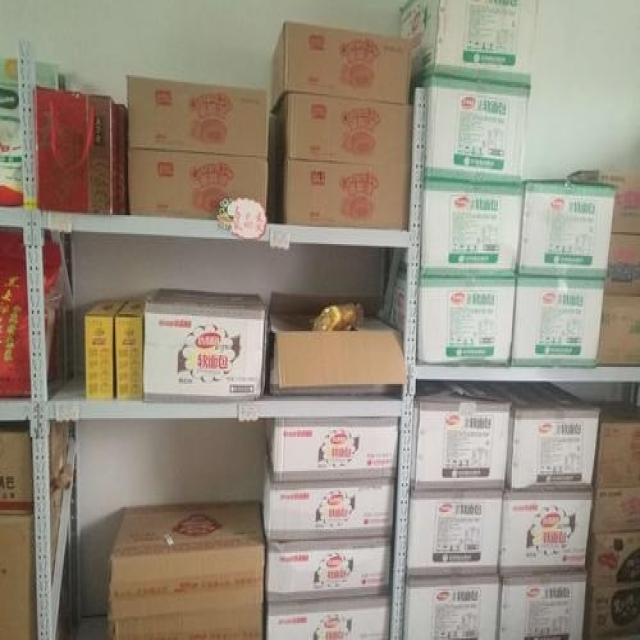box: (108, 502, 265, 640), (268, 288, 407, 396), (142, 288, 268, 401), (269, 20, 410, 114), (420, 73, 531, 184), (398, 0, 539, 87), (488, 379, 600, 488), (516, 171, 623, 282), (274, 90, 413, 172), (127, 77, 268, 157), (260, 461, 398, 541), (410, 381, 511, 490), (36, 87, 119, 217), (128, 148, 268, 224), (420, 179, 524, 276), (264, 418, 401, 485), (284, 159, 410, 230), (419, 276, 516, 367), (511, 276, 605, 369), (406, 490, 504, 577), (265, 536, 396, 601), (498, 488, 593, 577), (403, 573, 499, 640), (498, 572, 586, 640), (268, 594, 390, 638), (586, 399, 640, 486), (0, 515, 37, 640), (84, 299, 127, 399), (114, 299, 146, 401), (584, 582, 640, 638), (596, 295, 640, 365), (1, 432, 35, 515), (588, 529, 640, 582), (591, 486, 640, 531), (604, 236, 640, 294), (612, 174, 640, 234)
